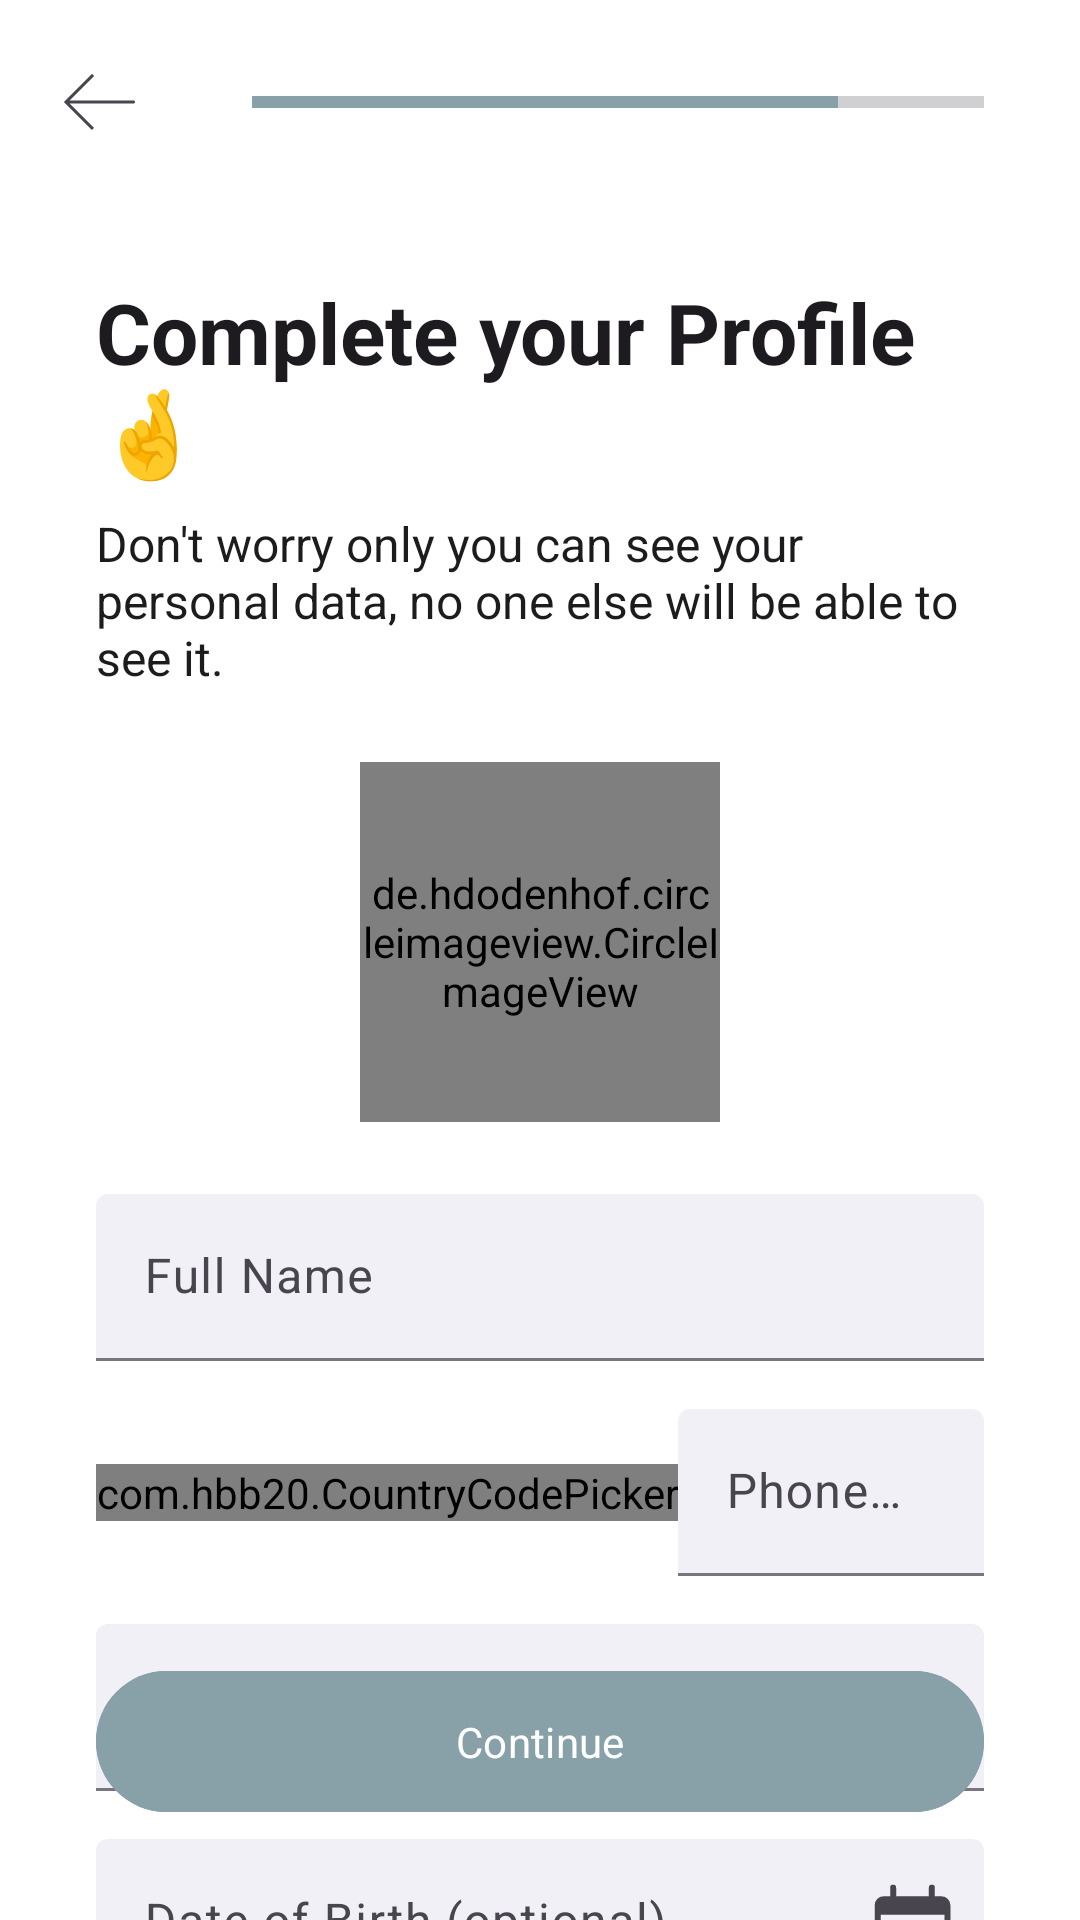

Icons on this 1080w x 1920h Android screen, each with the point to tap as point (x, y):
arrow back: point (99, 102)
